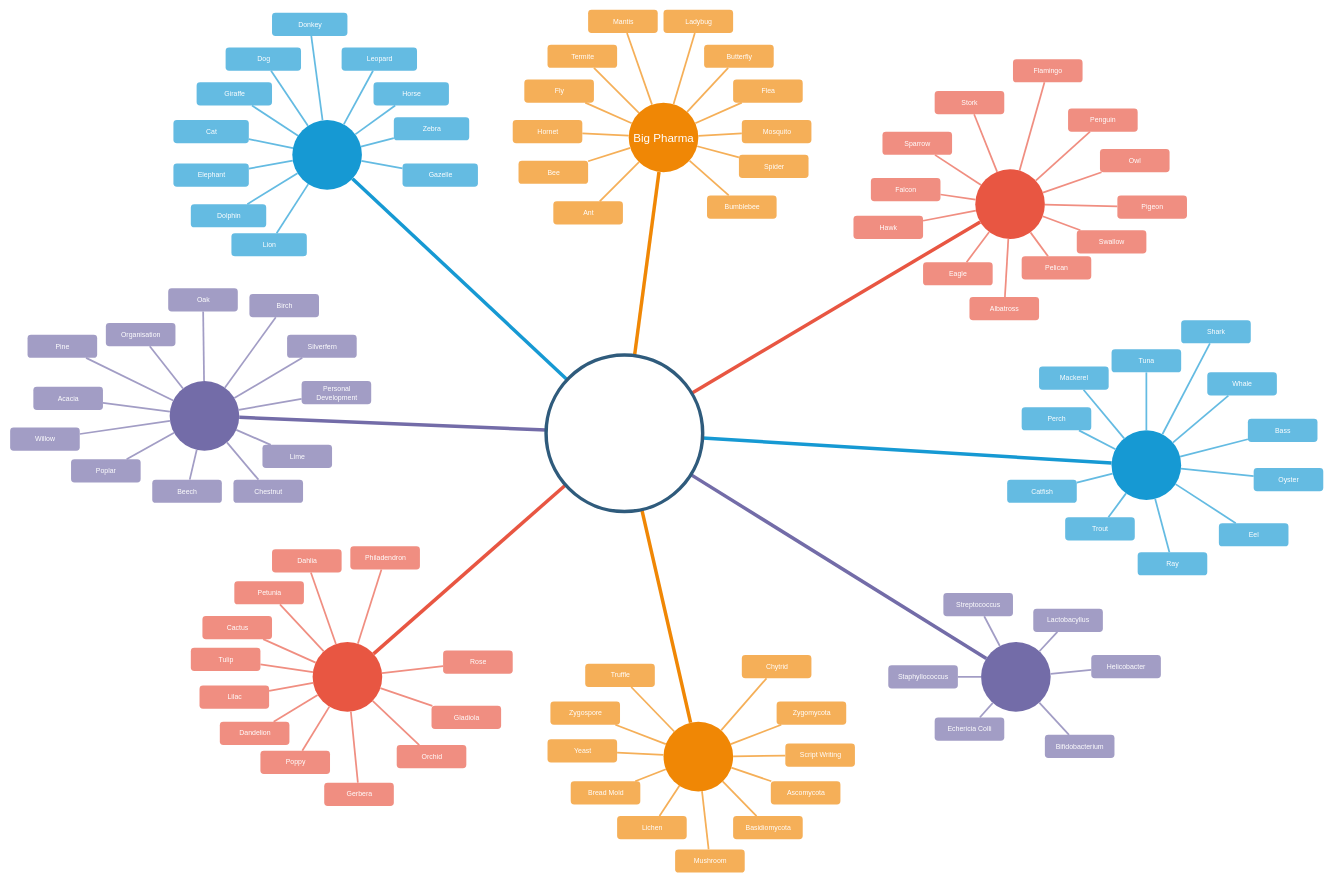
Image size: 1333x883. Some labels were removed from this diagram. Here are the shapes that lost their labels. From the top down, the box of each, then its label:
(292, 120, 362, 189): Big Data
(975, 169, 1045, 239): Bird
(169, 381, 239, 450): Tree
(544, 353, 704, 513): The Greater Reset
(1111, 430, 1181, 500): Fish
(312, 642, 382, 711): Flower
(981, 642, 1050, 711): Bacteria
(663, 722, 733, 791): Fungi
